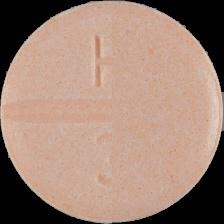61786-681: (0, 0, 224, 224)
